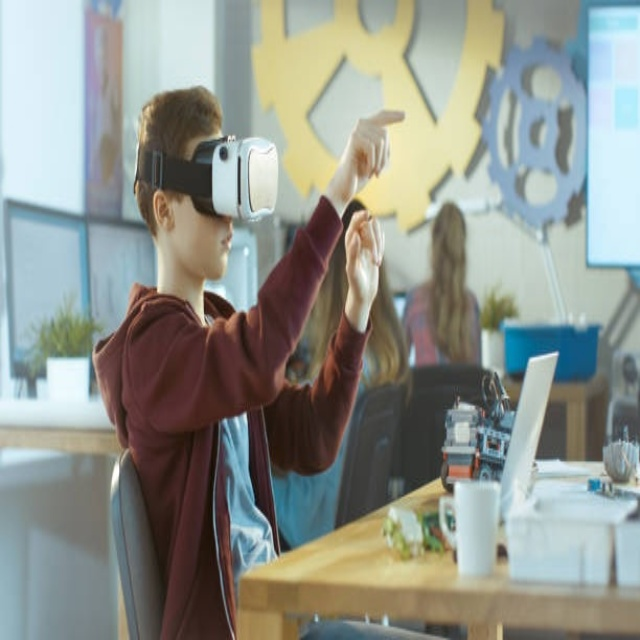Sin_guantes: (336, 100, 409, 201), (344, 208, 385, 314)
Sin_mascara: (205, 225, 236, 279)
